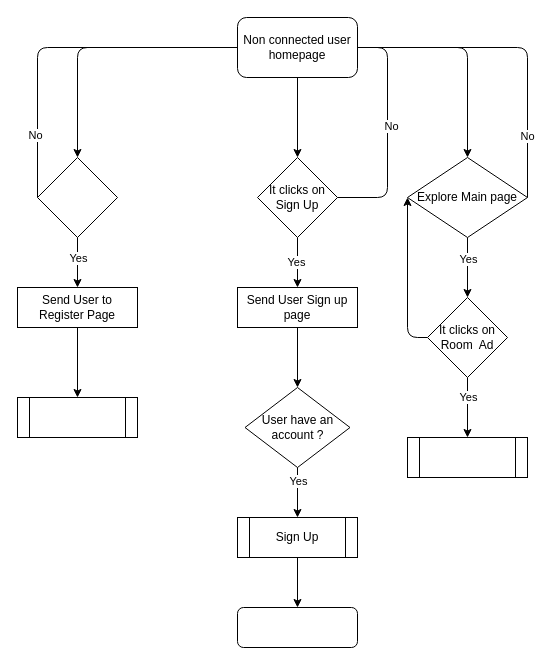
This 551x665 diagram has some shape labels left out. Each missing label, with the centre of its shape:
"Fin Utilisateur Non Connecté" goes at [297,627].
"It clicks on Register" goes at [77,197].
"Non Connected User Room Exploration" goes at [467,457].
"Register" goes at [77,417].
